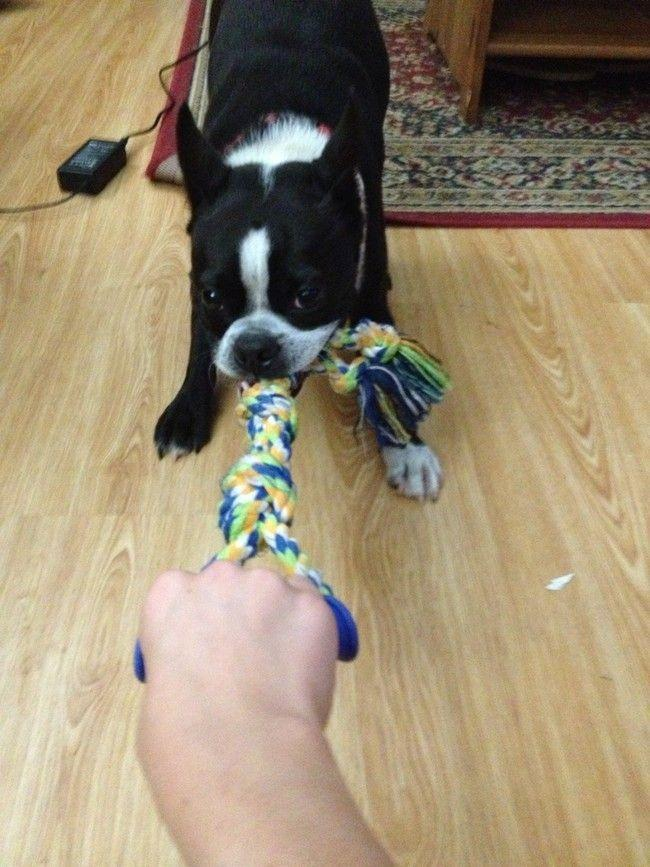adult_dog: (148, 1, 445, 504)
